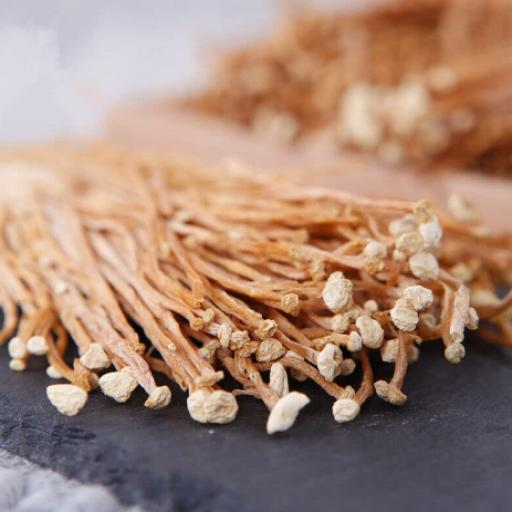Enoki Mushroom: (1, 122, 512, 449)
